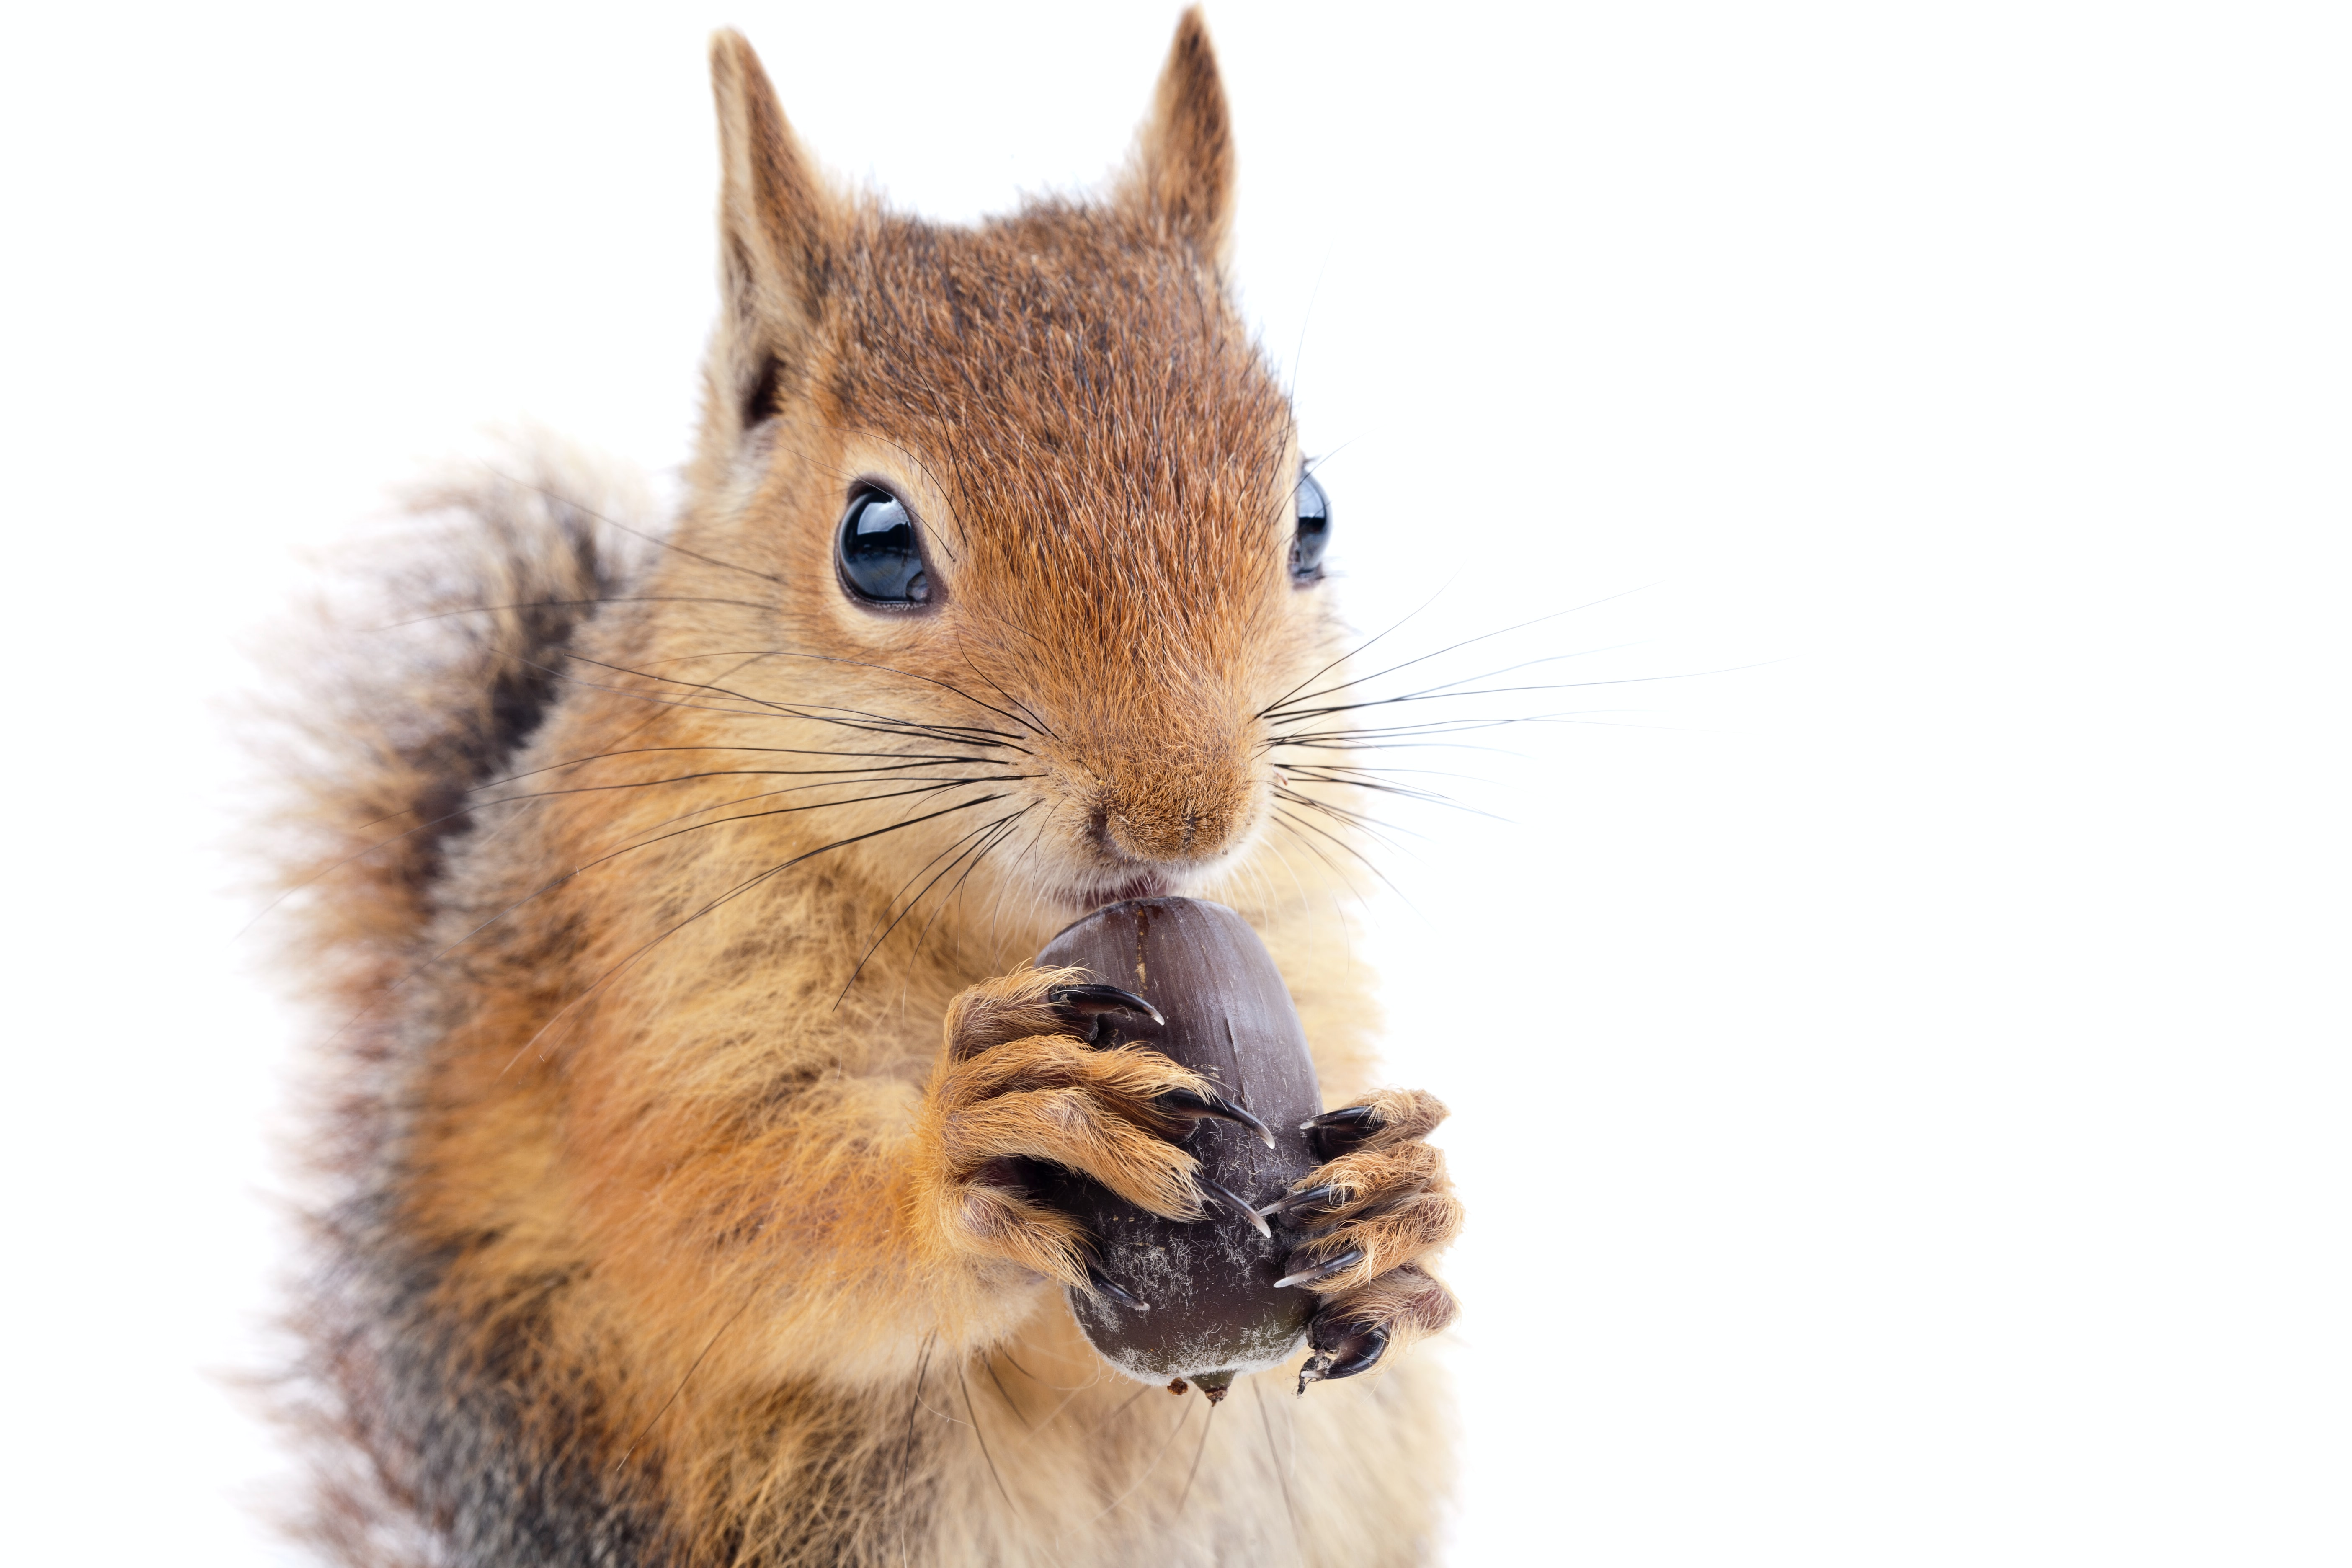squirrel: (301, 7, 1465, 1561)
